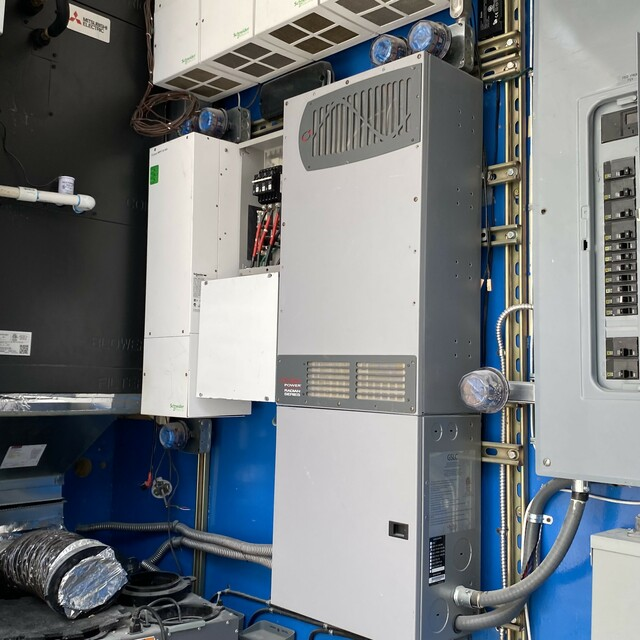inverter: (268, 47, 510, 640)
